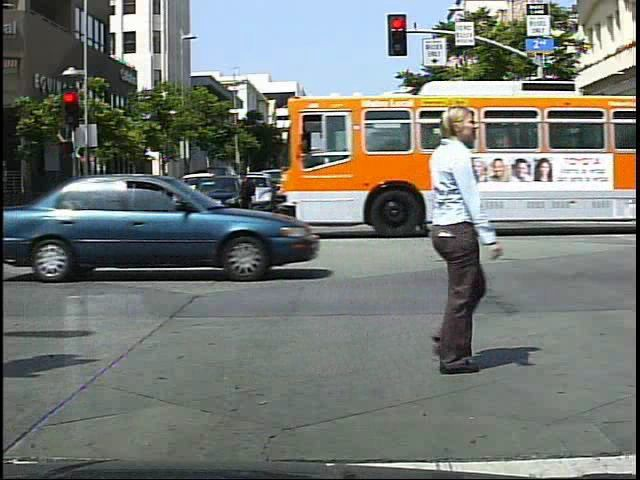person: (378, 86, 514, 386), (326, 164, 357, 228), (238, 166, 264, 215), (550, 160, 573, 211), (318, 166, 321, 230)
